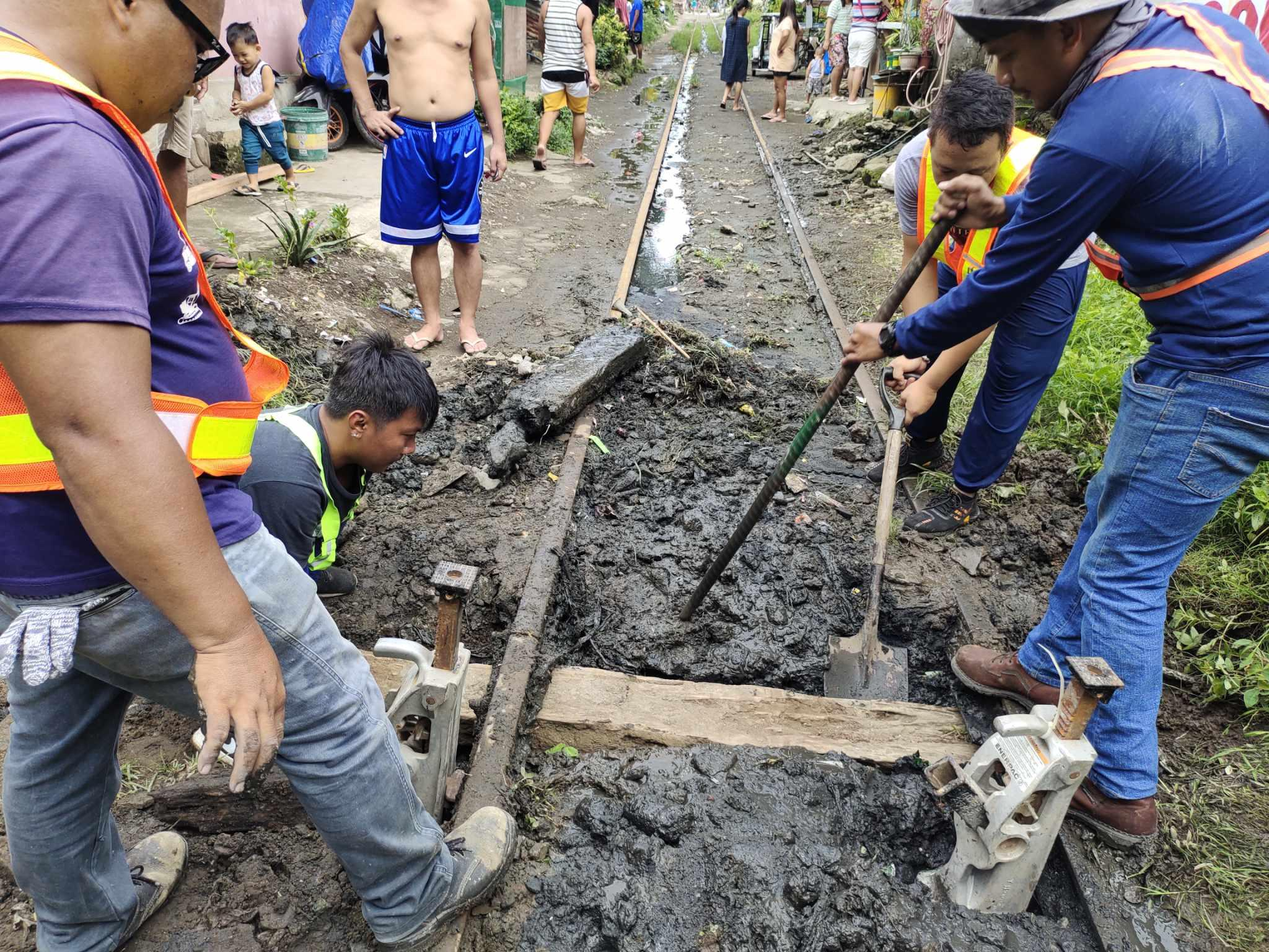railway-gap: (481, 595, 571, 679)
